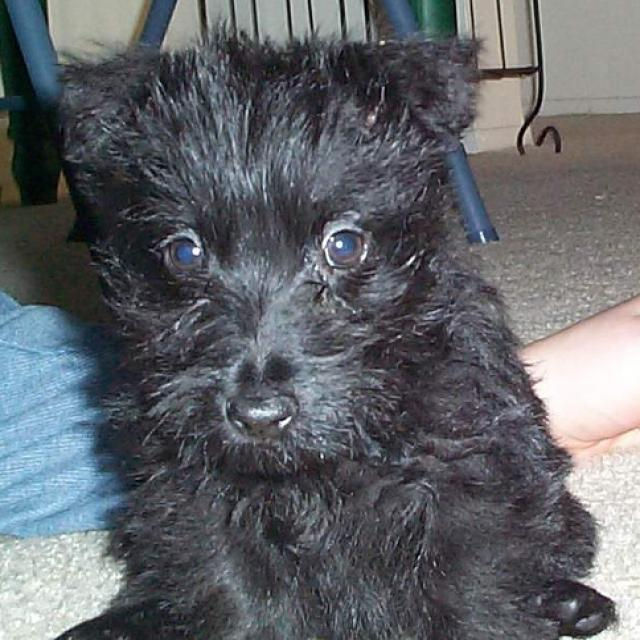dog-scottish_terrier: (36, 24, 632, 637)
